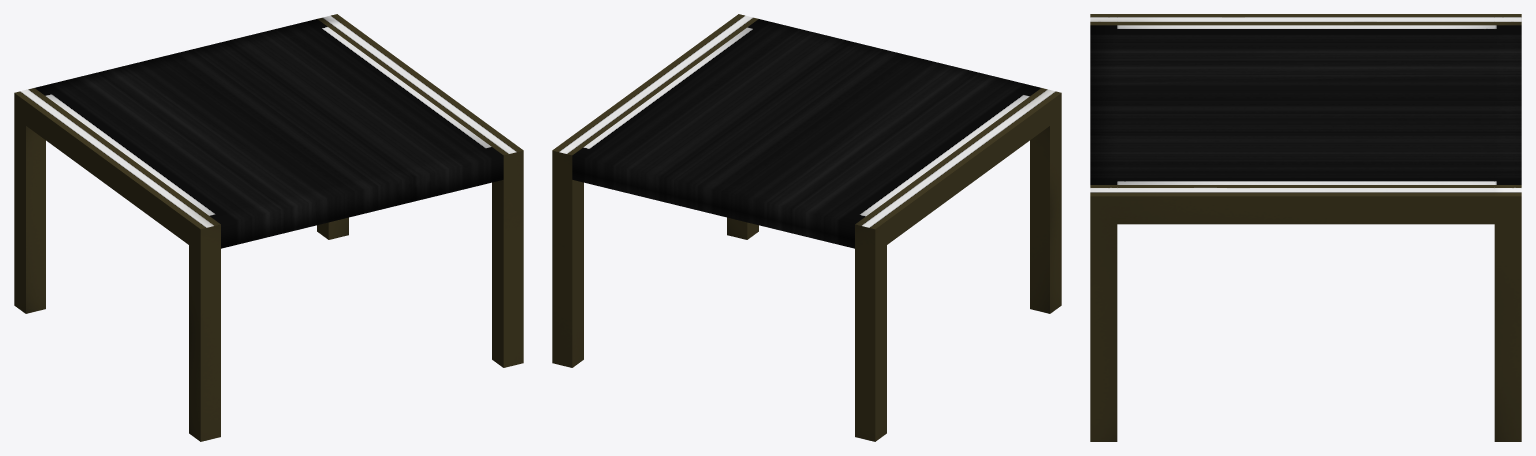
Rendered from raised.fbx.
3 views of the same model, side by side, from view 1: azimuth 30°, elevation 25°; view 2: azimuth 150°, elevation 25°; view 3: azimuth 270°, elevation 25° (orthographic). The views are drawn at different scales.
Parts seen in each view (by area): view 1: Raised_platform; view 2: Raised_platform; view 3: Raised_platform.
Part boxes in pixels (x1=…): Raised_platform: x1=14, y1=14, x2=523, y2=441; Raised_platform: x1=552, y1=14, x2=1061, y2=441; Raised_platform: x1=1090, y1=14, x2=1521, y2=441.
Size of the model in its own units: 2 by 1.26 by 2.
